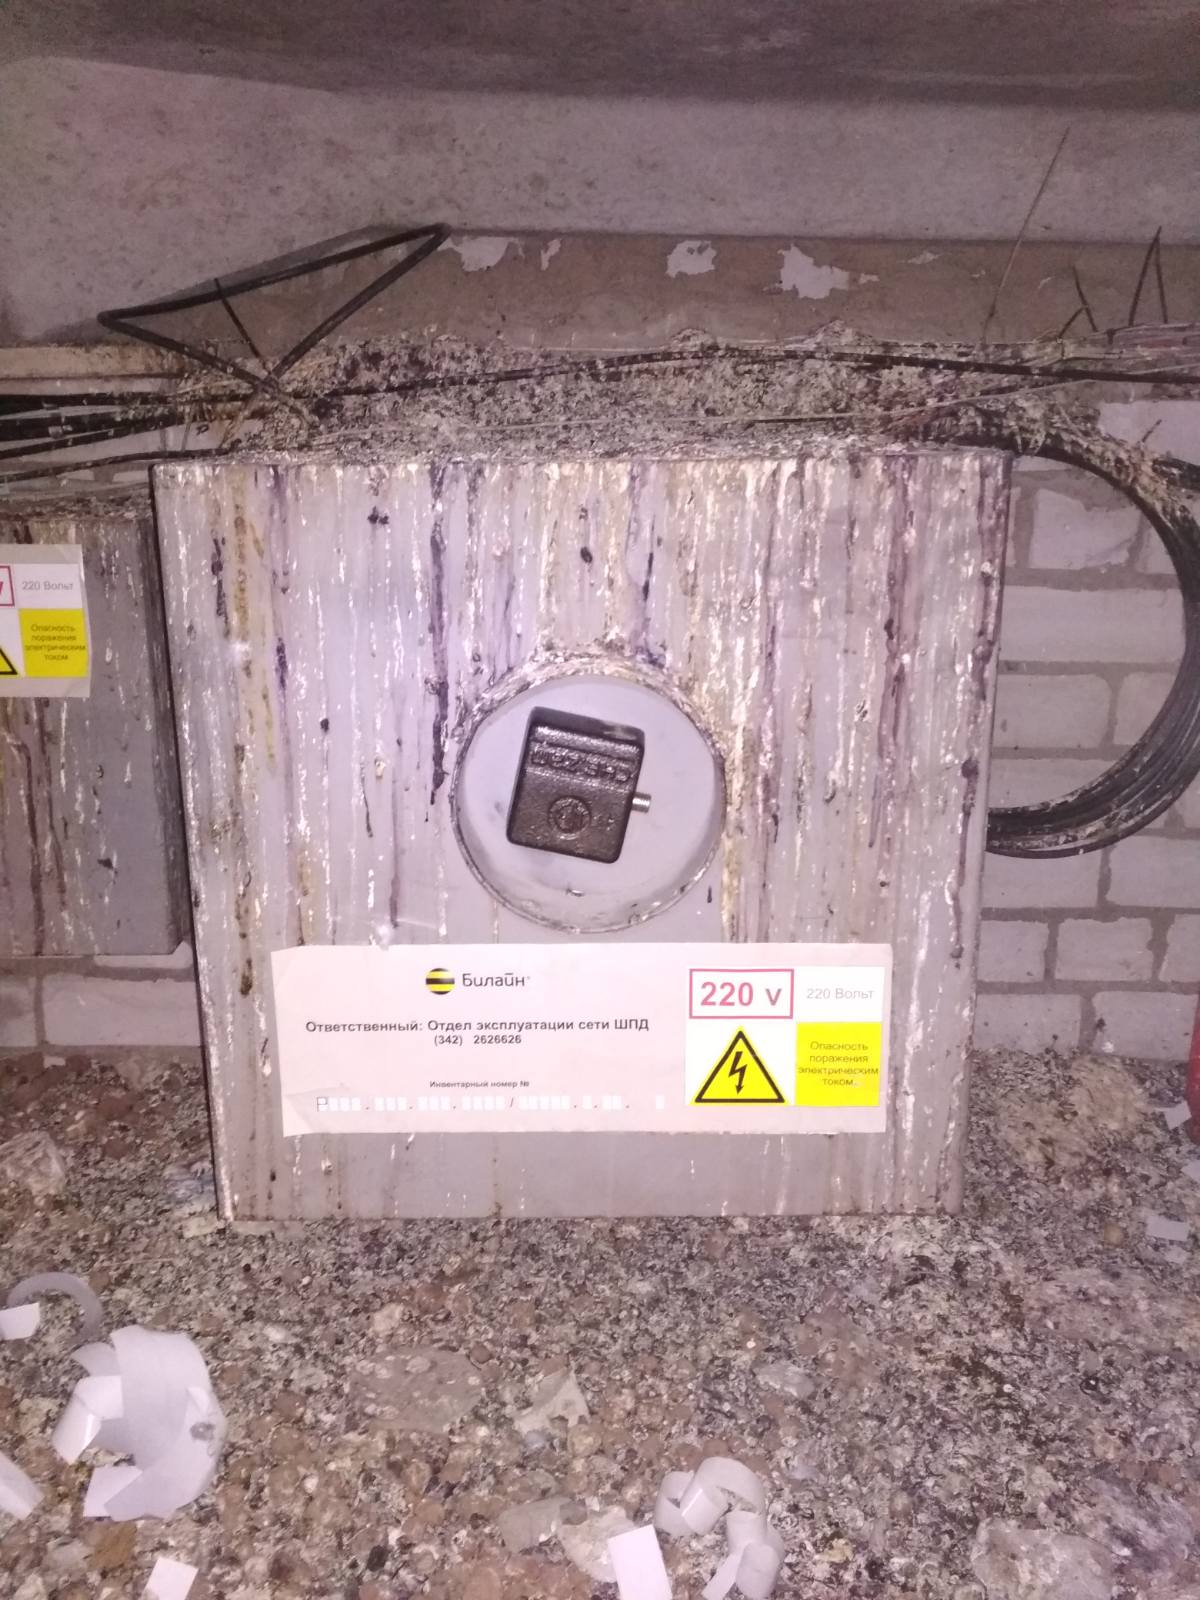shta-9: (134, 396, 1034, 1238)
